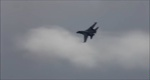maybay_muctieu: (76, 21, 100, 45)
